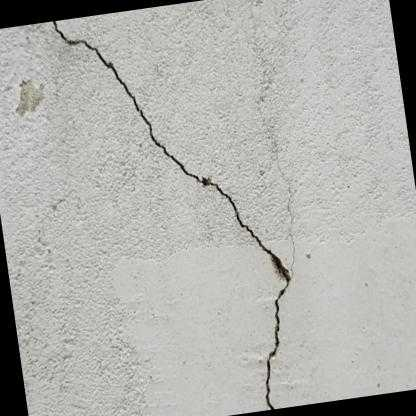crack: (51, 20, 288, 409)
